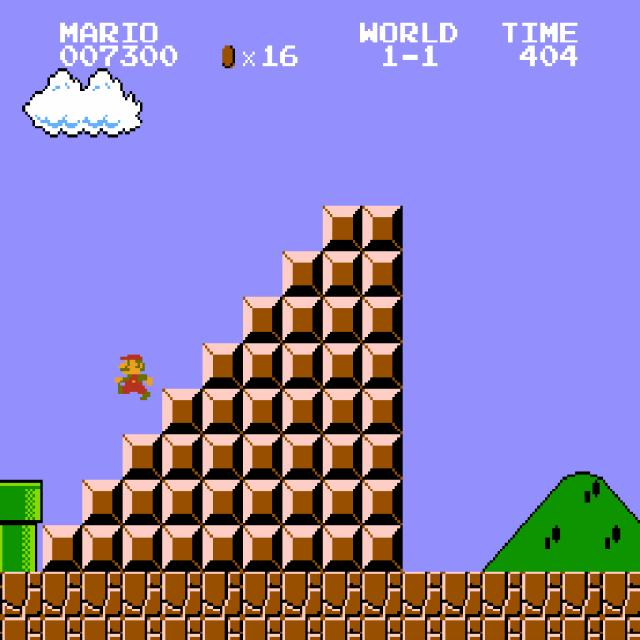hard_block: (82, 480, 123, 526), (122, 434, 163, 480), (122, 480, 163, 526), (162, 434, 203, 480), (162, 480, 203, 526), (202, 434, 243, 480), (202, 480, 243, 526), (242, 297, 283, 343), (242, 434, 283, 480), (242, 480, 283, 526), (282, 297, 323, 343), (282, 434, 323, 480), (282, 480, 323, 526), (322, 297, 363, 343), (322, 434, 363, 480), (322, 480, 363, 526), (362, 297, 403, 343), (362, 434, 403, 480), (362, 480, 403, 526), (42, 526, 83, 571), (82, 526, 123, 571), (122, 526, 163, 571), (162, 389, 203, 434), (162, 526, 203, 571), (202, 343, 243, 388), (202, 389, 243, 434), (202, 526, 243, 571), (242, 343, 283, 388), (242, 389, 283, 434), (242, 526, 283, 571), (282, 252, 323, 297), (282, 343, 323, 388), (282, 389, 323, 434), (282, 526, 323, 571), (322, 206, 363, 251), (322, 252, 363, 297), (322, 343, 363, 388), (322, 389, 363, 434), (322, 526, 363, 571), (362, 206, 403, 251), (362, 252, 403, 297), (362, 343, 403, 388), (362, 389, 403, 434), (362, 526, 403, 571)
little_mario: (110, 352, 153, 400)
pipe: (2, 526, 43, 571), (0, 525, 2, 571)
pipe_head: (2, 480, 43, 526), (0, 480, 2, 525)
undestructible_block: (2, 572, 43, 617), (42, 572, 83, 617), (82, 572, 123, 617), (122, 572, 163, 617), (162, 572, 203, 617), (202, 572, 243, 617), (242, 572, 283, 617), (282, 572, 323, 617), (322, 572, 363, 617), (362, 572, 403, 617), (402, 572, 443, 617), (442, 572, 483, 617), (482, 572, 523, 617), (522, 572, 563, 617), (562, 572, 603, 617), (603, 572, 640, 617), (2, 617, 43, 640), (42, 617, 83, 640), (82, 617, 123, 640), (122, 617, 163, 640), (162, 617, 203, 640), (202, 617, 243, 640), (242, 617, 283, 640), (282, 617, 323, 640), (322, 617, 363, 640), (362, 617, 403, 640), (402, 617, 443, 640), (442, 617, 483, 640), (482, 617, 523, 640), (522, 617, 563, 640), (562, 617, 603, 640), (603, 617, 640, 640), (0, 571, 2, 617), (0, 617, 2, 639)
